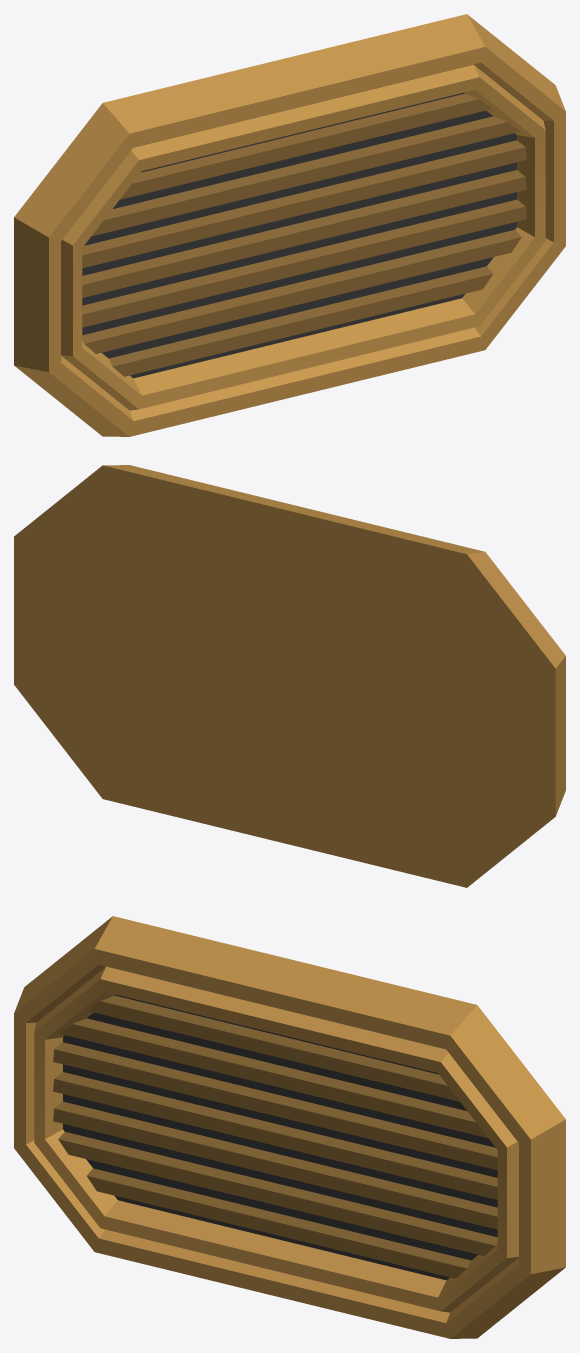
File: Details_Vent_1.gltf
3 renders of one model, top to bottom at view 1: azimuth 30°, elevation 25°; view 2: azimuth 150°, elevation 25°; view 3: azimuth 330°, elevation 25°, orthographic.
Visible parts, largest first — view 1: Details_Vent_1; view 2: Details_Vent_1; view 3: Details_Vent_1.
Boxes of the visible parts, box(x1,y1,x2,y2) form: Details_Vent_1: box(14, 14, 565, 436); Details_Vent_1: box(14, 465, 565, 887); Details_Vent_1: box(14, 916, 565, 1338).
Bounding box in the file's own units: 0.5265 × 0.3099 × 0.0413.
